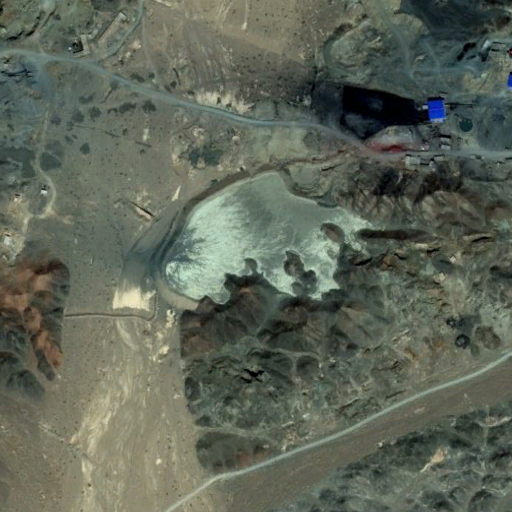tp: (151, 168, 384, 307)
